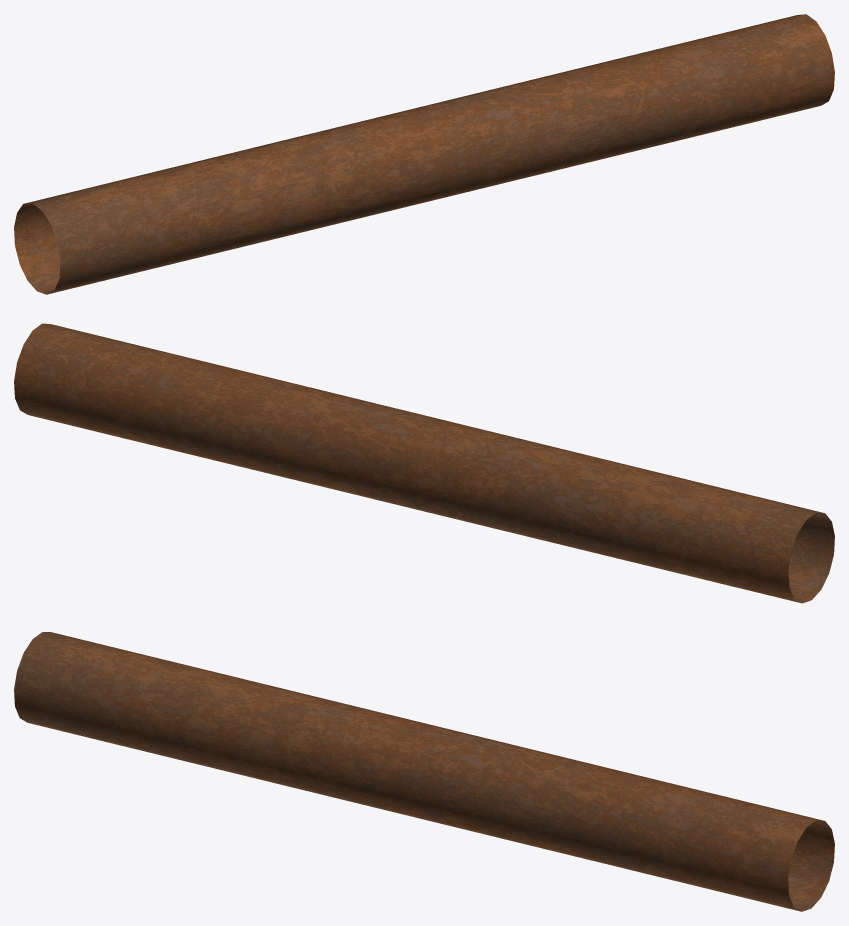
Rendered from MiddlePipe.fbx.
The picture shows the model from 3 angles, top to bottom: view 1: azimuth 30°, elevation 25°; view 2: azimuth 150°, elevation 25°; view 3: azimuth 330°, elevation 25°; orthographic projection.
Visible parts, largest first — view 1: MiddlePipe; view 2: MiddlePipe; view 3: MiddlePipe.
Boxes of the visible parts, x1=… form: MiddlePipe: x1=14, y1=14, x2=834, y2=294; MiddlePipe: x1=14, y1=323, x2=834, y2=603; MiddlePipe: x1=14, y1=632, x2=834, y2=911.
Bounding box in the file's own units: 200 × 20.89 × 21.
